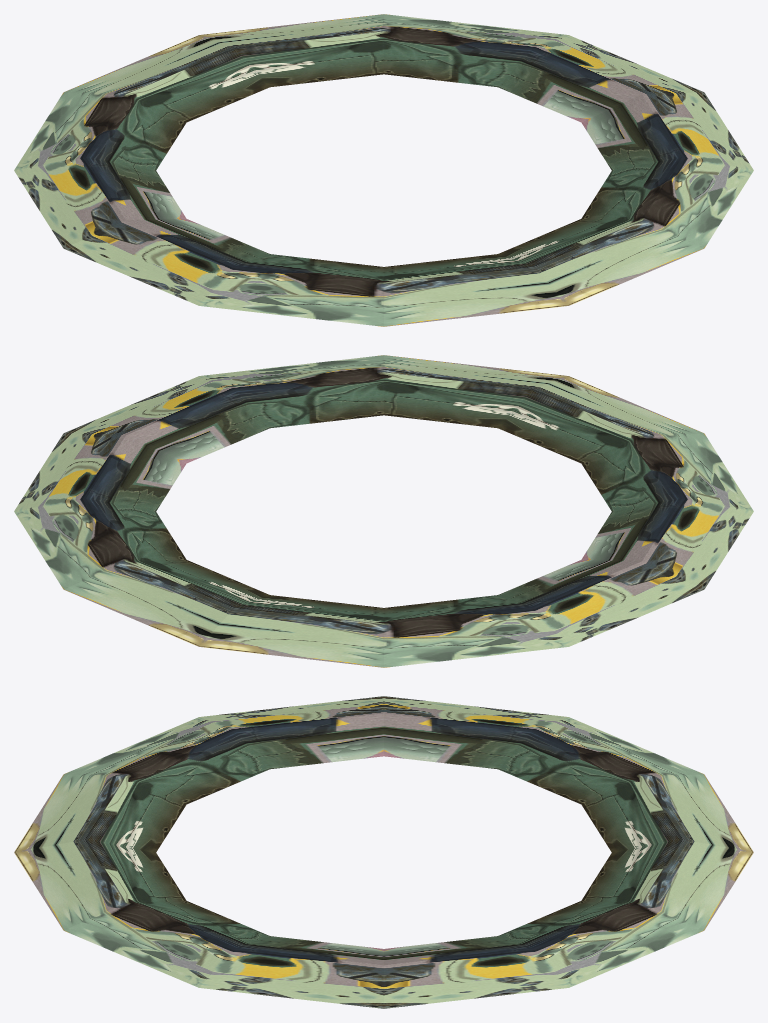
The model's file is Mole_halo.obj.
3 renders of one model, top to bottom at view 1: azimuth 30°, elevation 25°; view 2: azimuth 150°, elevation 25°; view 3: azimuth 270°, elevation 25°, orthographic.
Visible parts, largest first — view 1: Mole_halo_tri; view 2: Mole_halo_tri; view 3: Mole_halo_tri.
Part boxes in pixels (box(x1,y1,x2,y2)): Mole_halo_tri: box(14, 14, 753, 326); Mole_halo_tri: box(14, 355, 753, 667); Mole_halo_tri: box(14, 696, 753, 1008).
Bounding box in the file's own units: 0.2129 × 0.00836 × 0.2129.
1 material, 1 textured.
